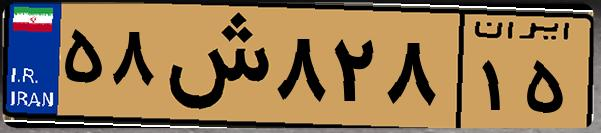1: (475, 38, 525, 113)
2: (330, 28, 385, 110)
5: (57, 26, 110, 100), (525, 38, 570, 115)
8: (270, 28, 330, 110), (385, 28, 445, 110), (110, 28, 158, 98)
ش: (158, 12, 270, 120)
